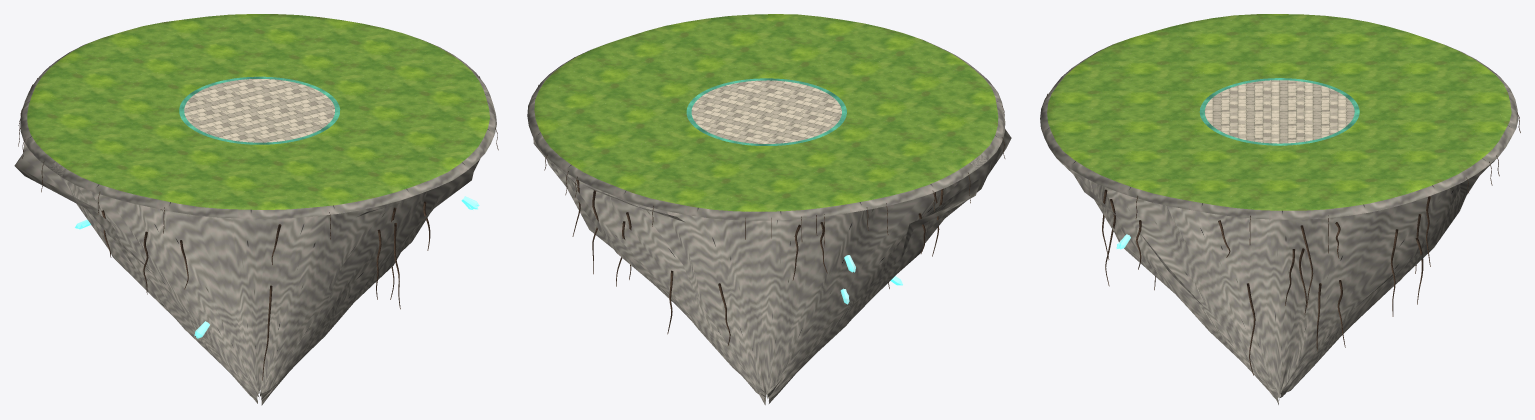
The model's file is sky_platform_mid.glb.
3 renders of one model, left to right at view 1: azimuth 30°, elevation 25°; view 2: azimuth 150°, elevation 25°; view 3: azimuth 270°, elevation 25°, orthographic.
Visible parts, largest first — view 1: IslandTop-col, IslandRock, IslandRoots; view 2: IslandTop-col, IslandRock, IslandRoots; view 3: IslandTop-col, IslandRock, IslandRoots.
Part boxes in pixels (bbox=[...]): IslandTop-col: bbox=[20, 14, 496, 218]; IslandRock: bbox=[14, 142, 479, 405]; IslandRoots: bbox=[18, 66, 498, 380]; IslandTop-col: bbox=[527, 14, 1005, 220]; IslandRock: bbox=[533, 129, 1011, 405]; IslandRoots: bbox=[538, 85, 1005, 345]; IslandTop-col: bbox=[1040, 14, 1518, 219]; IslandRock: bbox=[1056, 158, 1496, 404]; IslandRoots: bbox=[1047, 94, 1520, 375].
Size of the model in its own units: 59.32 by 38.85 by 57.72.
Materials: 6 (5 with a texture image).
